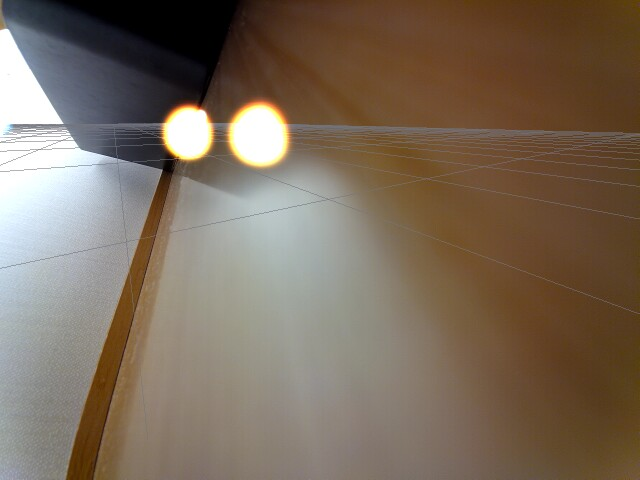firebig: (224, 93, 293, 178)
